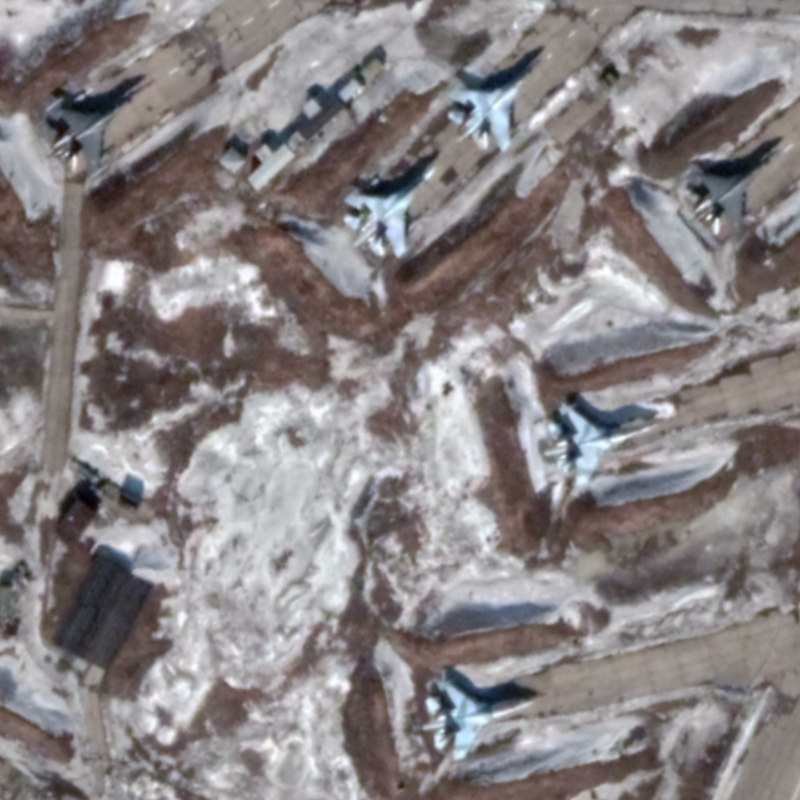A1: (543, 400, 663, 490), (419, 677, 541, 762), (445, 56, 544, 155), (341, 165, 439, 259), (692, 147, 784, 239)
